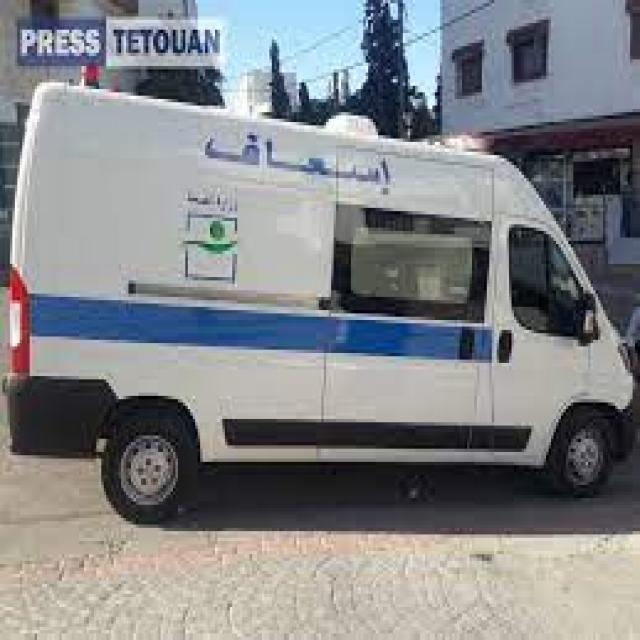ambulance: (10, 79, 640, 508)
